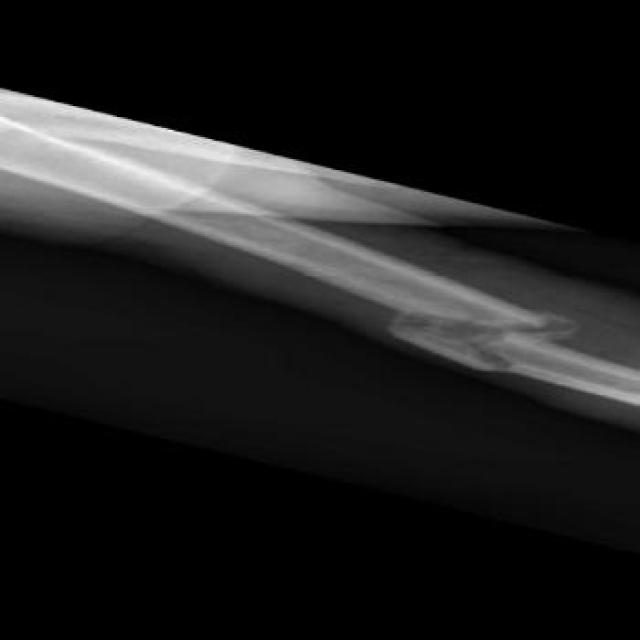Fracture: (375, 305, 584, 377)
